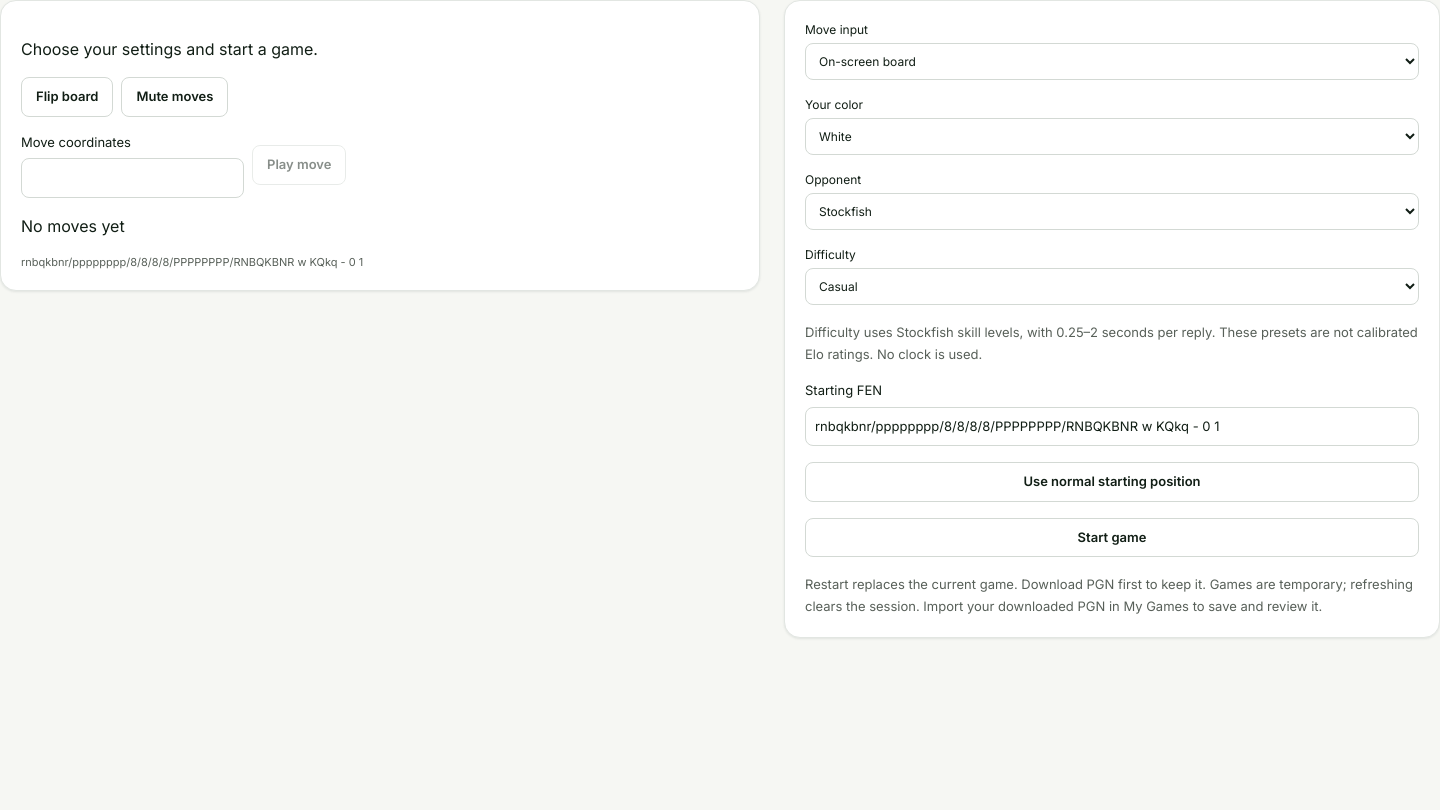
Test case: automatically plays White when the human chooses Black and keeps settings fixed for the current game
The width and height of the screenshot is (1440, 810).
Select "Black" in the dropdown labelled "Your color" at (1112, 136), box [805,118,1419,155]
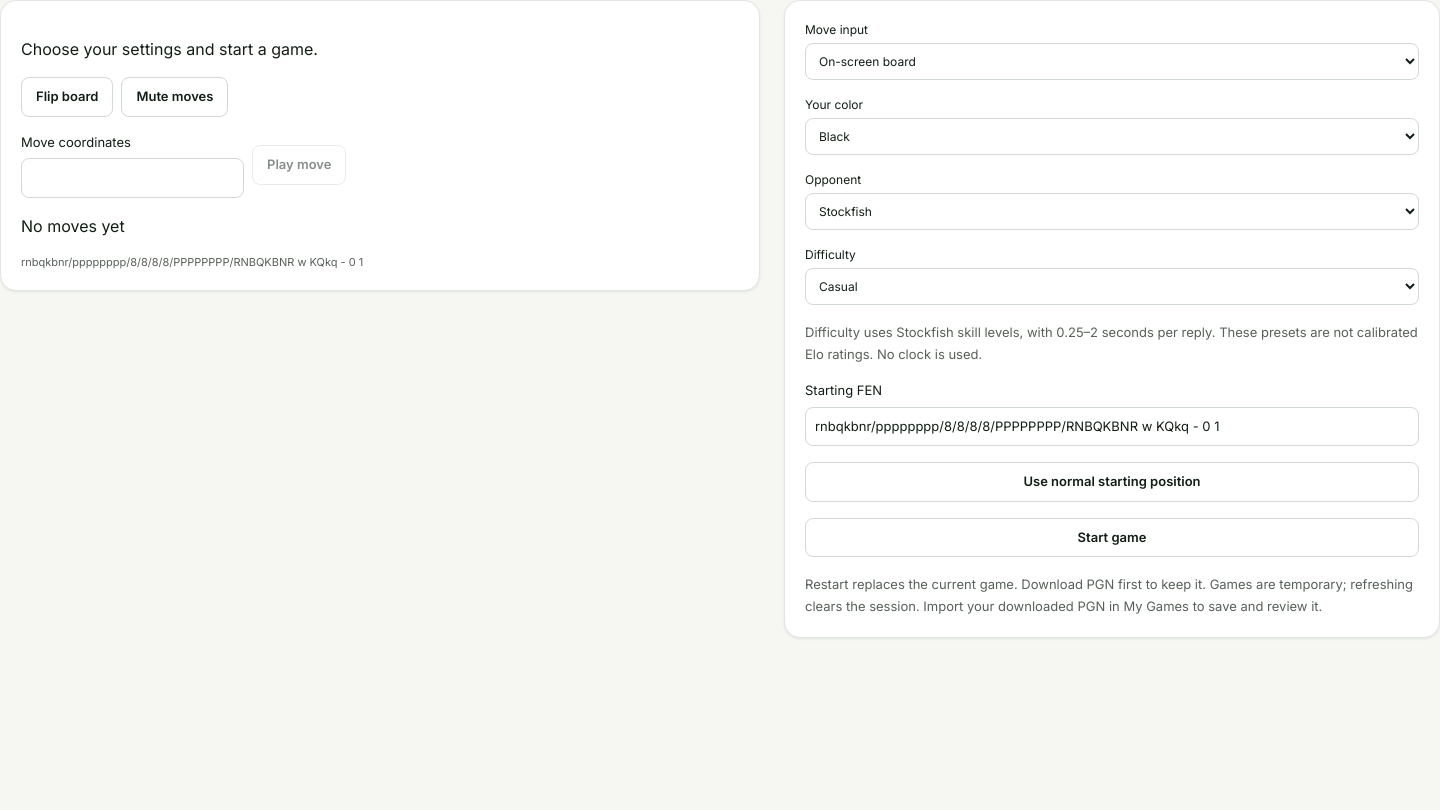
Select "Strong" in the dropdown labelled "Difficulty" at (1112, 286), box [805,268,1419,305]
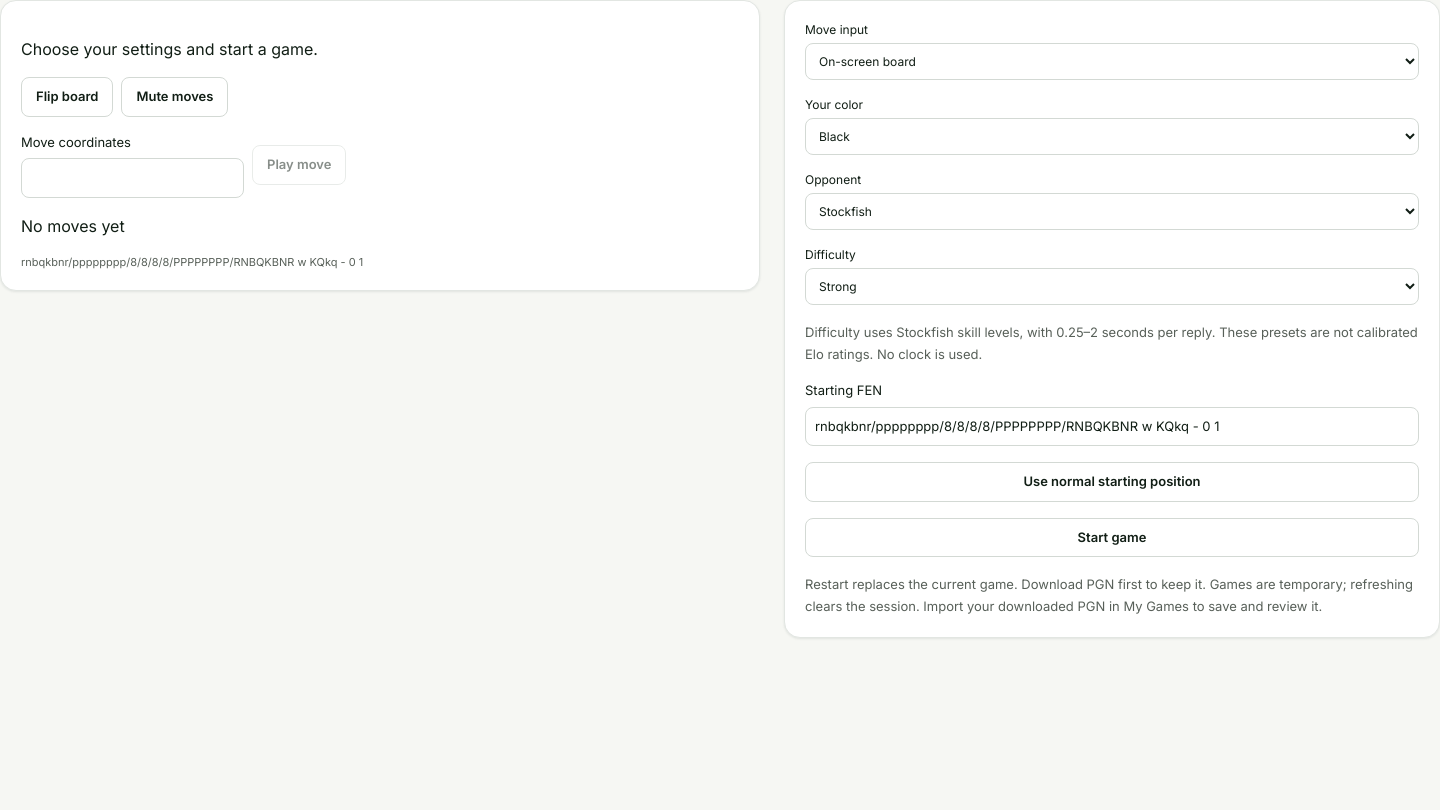
Click the button "Start game".
click(1112, 537)  # box [805,518,1419,557]
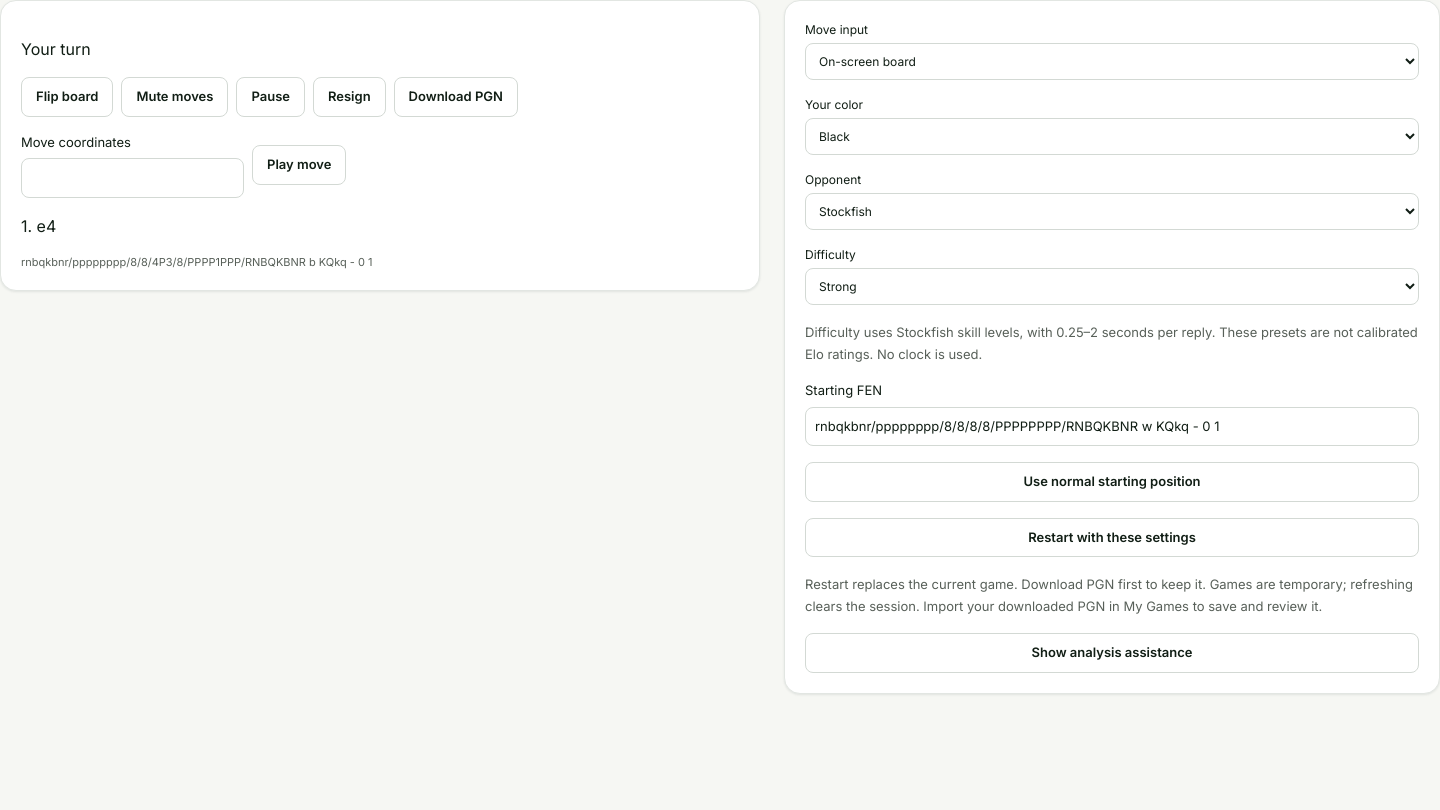
Expected: the text named "Game moves" shows "e4", [21,216,56,236]
Expected: the message named "Game status" reads "Your turn", [21,39,91,59]
